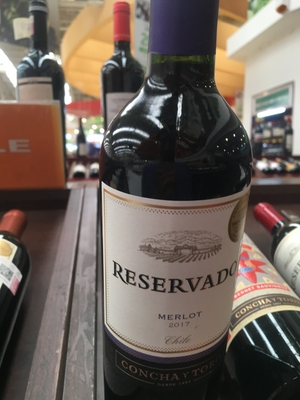reservado merlot: (98, 1, 270, 378)
